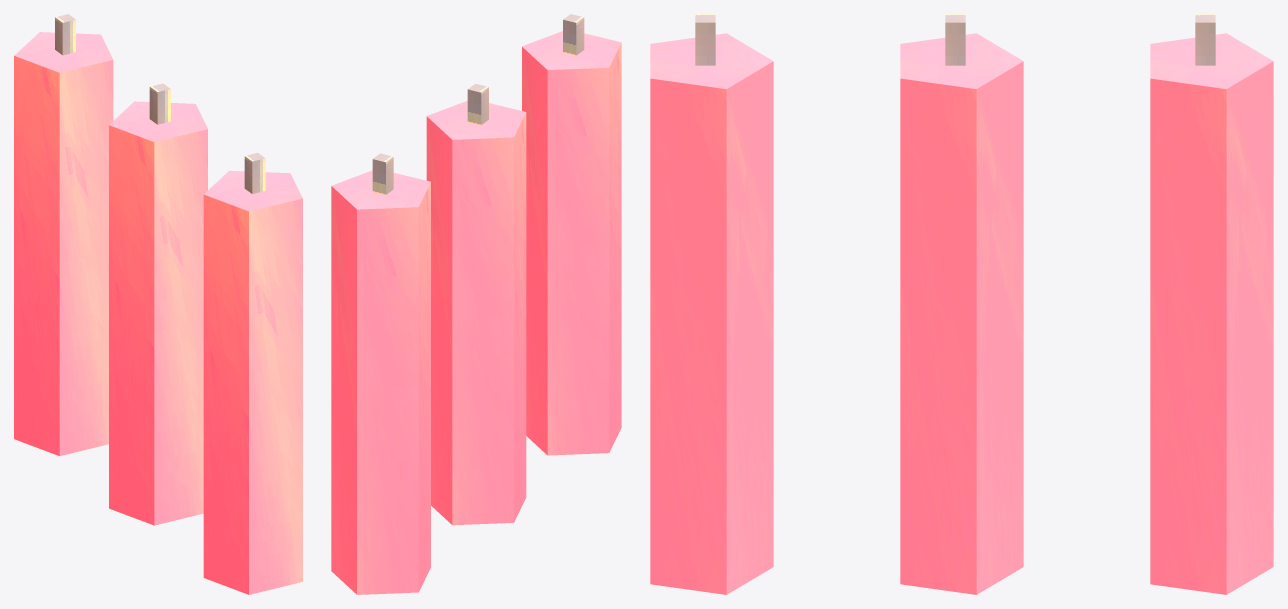
Rendered from candlered.glb.
3 views of the same model, side by side, from view 1: azimuth 30°, elevation 25°; view 2: azimuth 150°, elevation 25°; view 3: azimuth 270°, elevation 25° (orthographic). The views are drawn at different scales.
Parts seen in each view (by area): view 1: Cube.002, Cube.001, Cube; view 2: Cube.001, Cube, Cube.002; view 3: Cube.002, Cube, Cube.001.
Boxes of the visible parts, box(x1,y1,x2,y2) form: Cube.002: box(203, 152, 302, 594); Cube.001: box(14, 14, 113, 456); Cube: box(109, 83, 207, 525); Cube.001: box(331, 153, 430, 594); Cube: box(426, 83, 526, 525); Cube.002: box(522, 14, 621, 455); Cube.002: box(650, 14, 773, 594); Cube: box(900, 14, 1023, 594); Cube.001: box(1150, 14, 1273, 594).
Size of the model in its own units: 0.53 by 2.42 by 2.49.
